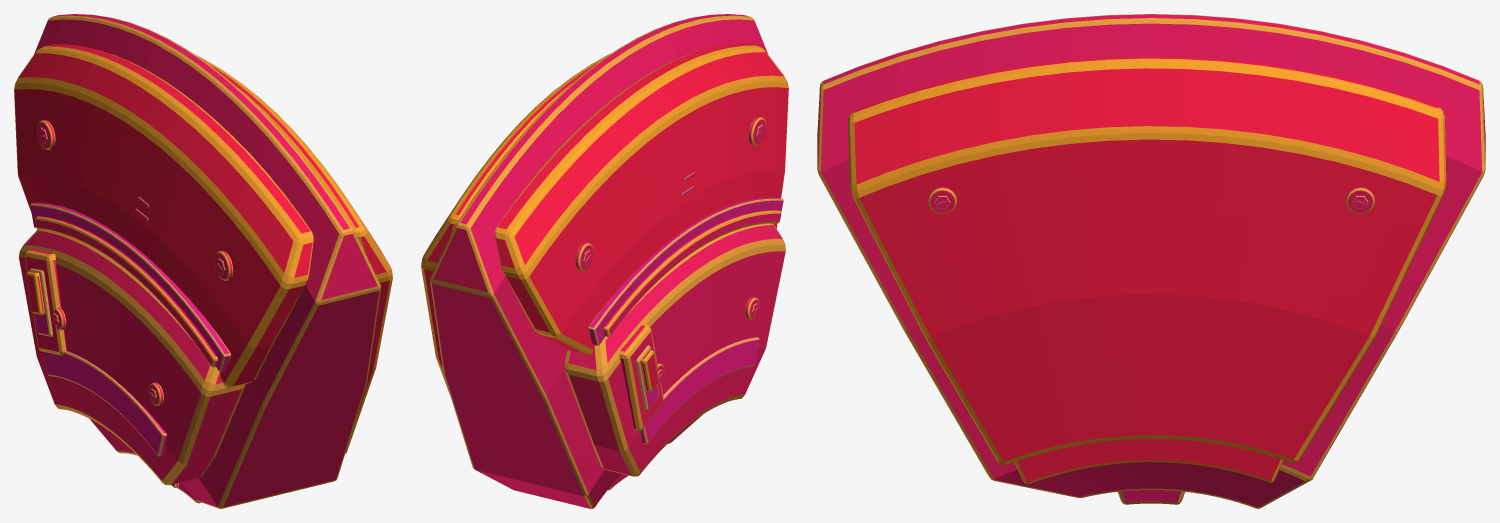
File: SM_ShieldSegment.fbx
The picture shows the model from 3 angles, left to right: view 1: azimuth 30°, elevation 25°; view 2: azimuth 150°, elevation 25°; view 3: azimuth 270°, elevation 25°; orthographic projection. The views are drawn at different scales.
Visible parts, largest first — view 1: SM_ShieldSegment; view 2: SM_ShieldSegment; view 3: SM_ShieldSegment.
Boxes of the visible parts, x1,y1,x2,y2 form: SM_ShieldSegment: [14, 14, 392, 508]; SM_ShieldSegment: [421, 14, 788, 508]; SM_ShieldSegment: [817, 14, 1485, 508].
Bounding box in the file's own units: 32.91 × 12.31 × 26.16.
